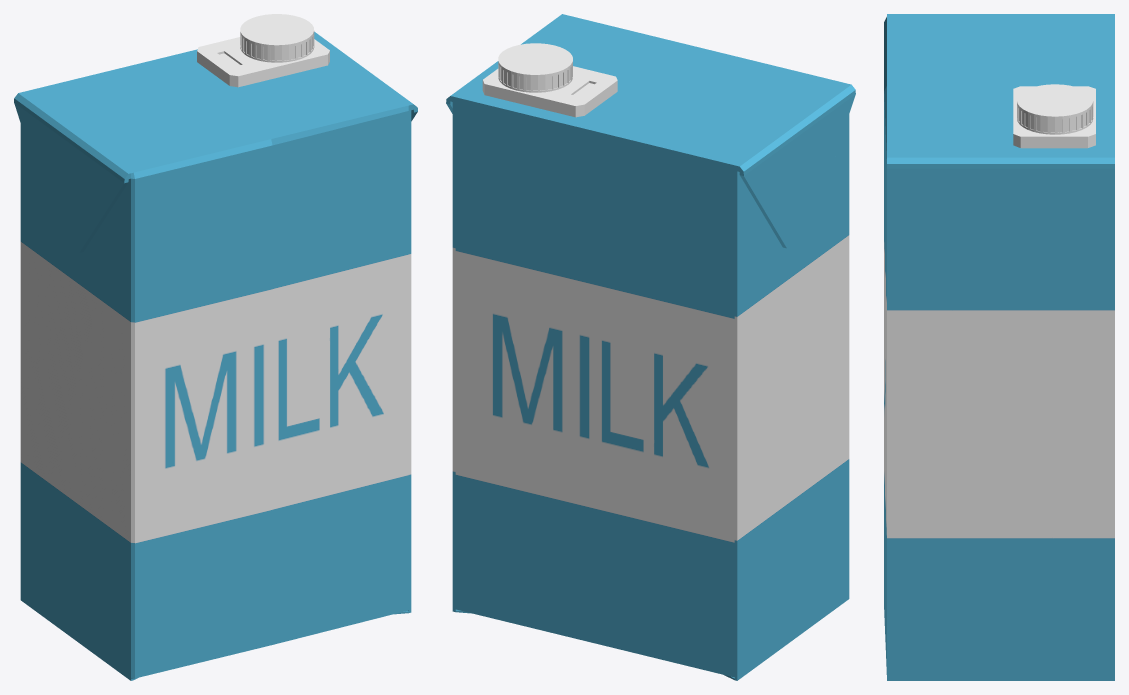
File: susu.fbx
3 renders of one model, left to right at view 1: azimuth 30°, elevation 25°; view 2: azimuth 150°, elevation 25°; view 3: azimuth 270°, elevation 25°, orthographic. The views are drawn at different scales.
Visible parts, largest first — view 1: Cube, Cube.001, Cylinder; view 2: Cube, Cube.001, Cylinder; view 3: Cube, Cylinder, Cube.001.
Boxes of the visible parts, x1=… form: Cube: x1=14, y1=32, x2=417, y2=680; Cube.001: x1=197, y1=37, x2=329, y2=87; Cylinder: x1=240, y1=14, x2=314, y2=62; Cube: x1=446, y1=14, x2=855, y2=680; Cube.001: x1=482, y1=66, x2=617, y2=117; Cylinder: x1=498, y1=43, x2=572, y2=92; Cube: x1=884, y1=14, x2=1114, y2=680; Cylinder: x1=1017, y1=84, x2=1093, y2=134; Cube.001: x1=1013, y1=86, x2=1095, y2=148.
Size of the model in its own units: 218 by 381 by 144.
2 materials, 2 textured.
